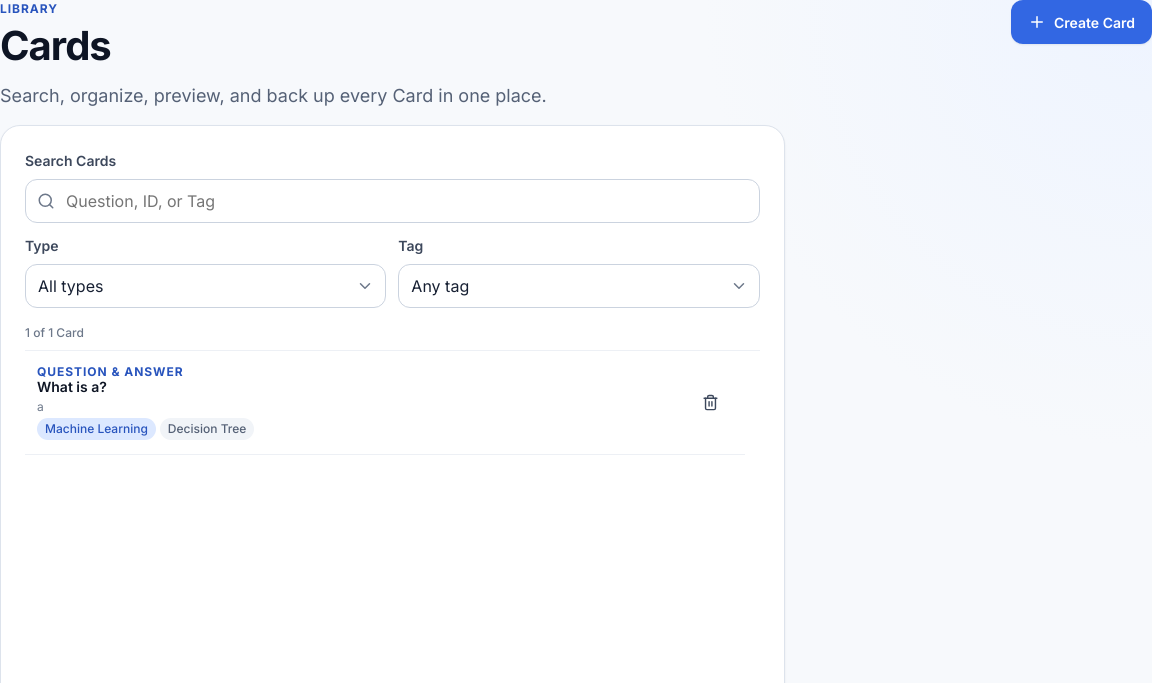
Test case: the numeric fields have the control style: Answer and Allowed error are number inputs without a hint, Allowed error starts at 0, and Unit is a text input that s
Click the button "Create Card": click(1082, 22) [1011, 0, 1151, 44]
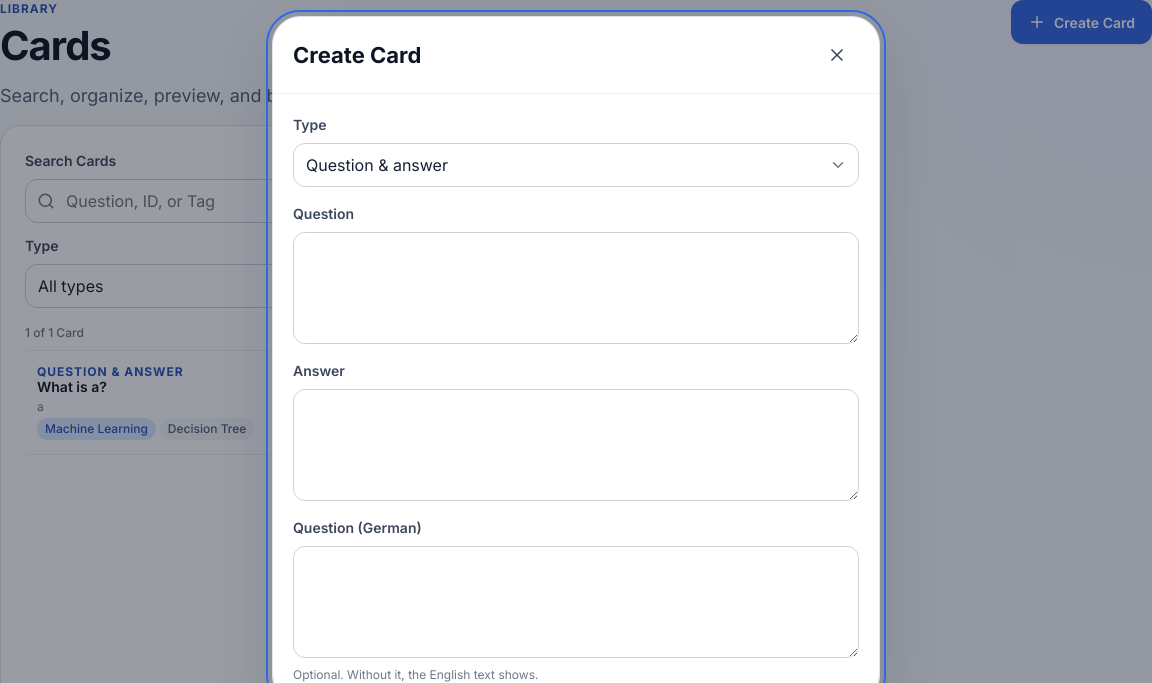
Select "Numeric" in the dropdown labelled "Type": (576, 165) [293, 143, 859, 187]
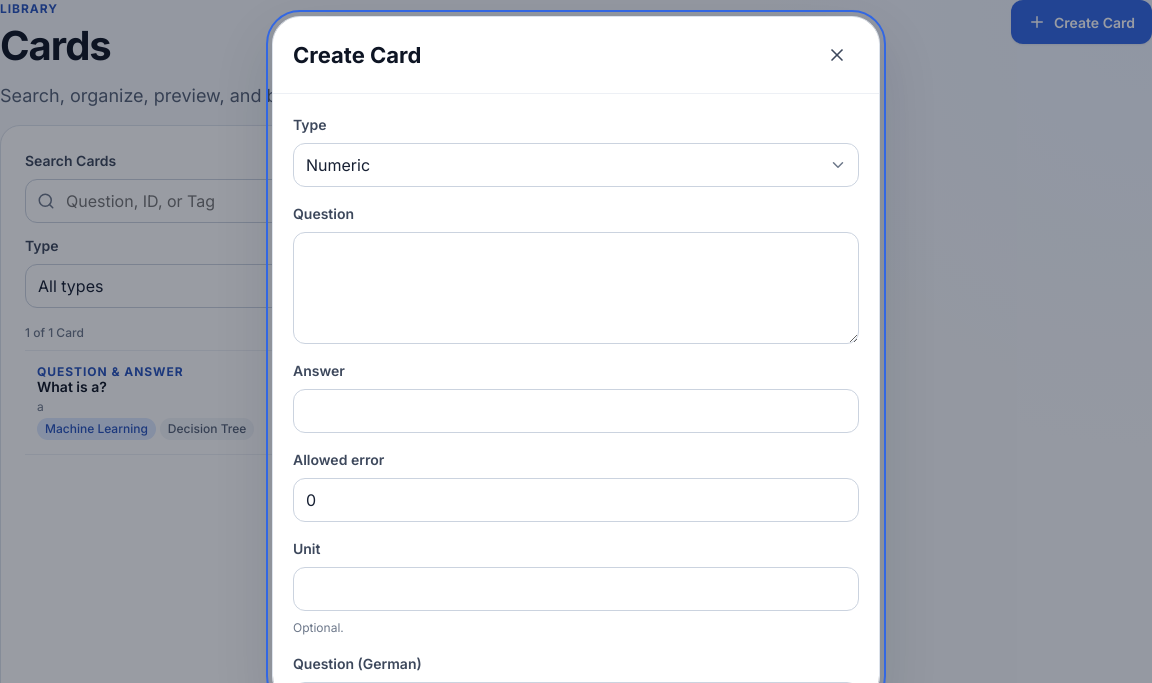
Now the element labelled "Answer" is shown, box [293, 360, 859, 433]
Now the element labelled "Allowed error" is shown, box [293, 449, 859, 522]
Now the element labelled "Unit" is shown, box [293, 538, 859, 637]
